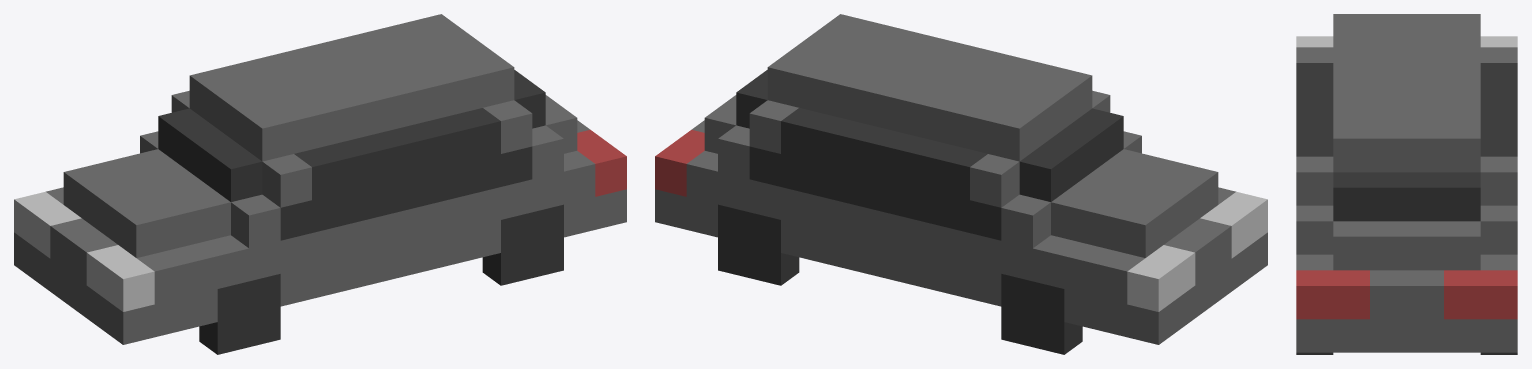
File: car-v4-grey.gltf
3 views of the same model, side by side, from view 1: azimuth 30°, elevation 25°; view 2: azimuth 150°, elevation 25°; view 3: azimuth 270°, elevation 25° (orthographic).
Parts seen in each view (by area): view 1: model, wheels; view 2: model, wheels; view 3: model, wheels.
Boxes of the visible parts, x1,y1,x2,y2 form: model: (14, 14, 626, 344); wheels: (199, 204, 563, 354); model: (655, 14, 1267, 344); wheels: (718, 204, 1082, 354); model: (1296, 14, 1517, 352); wheels: (1296, 352, 1517, 354).
Size of the model in its own units: 1.6 by 0.6 by 0.6.
Materials: 2 (2 with a texture image).
